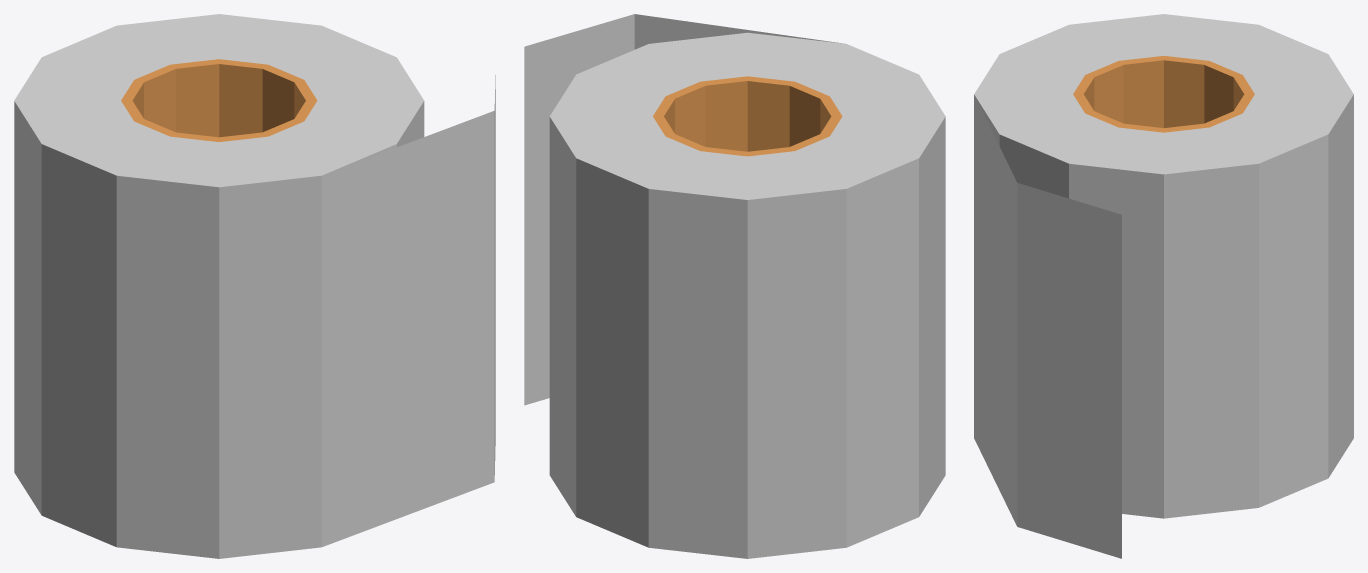
Rendered from ToiletPaper.fbx.
3 renders of one model, left to right at view 1: azimuth 30°, elevation 25°; view 2: azimuth 150°, elevation 25°; view 3: azimuth 270°, elevation 25°, orthographic. The views are drawn at different scales.
Parts seen in each view (by area): view 1: ToiletPaper; view 2: ToiletPaper; view 3: ToiletPaper.
Part boxes in pixels (bbox=[...]): ToiletPaper: bbox=[14, 14, 495, 558]; ToiletPaper: bbox=[524, 14, 945, 558]; ToiletPaper: bbox=[974, 14, 1353, 558].
Bounding box in the file's own units: 243 × 203 × 200.
